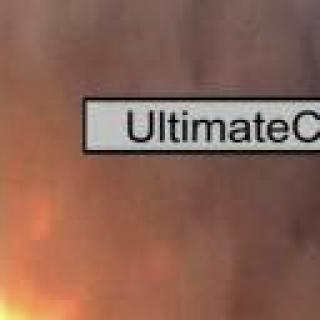fire: (0, 158, 232, 320)
